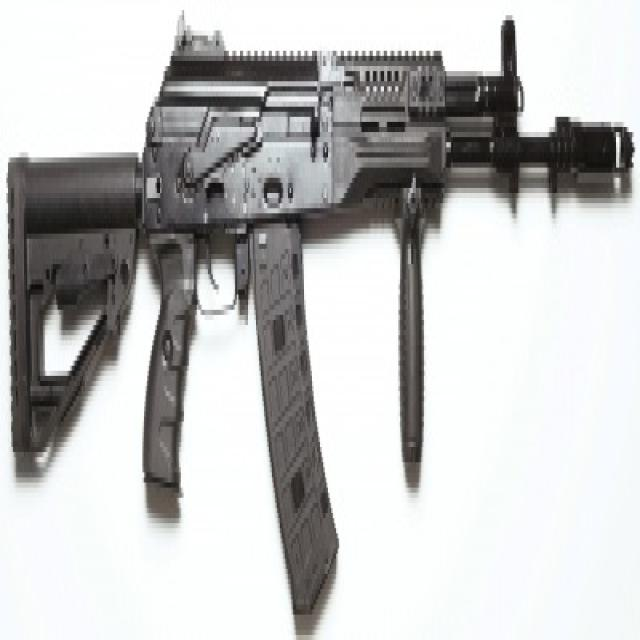rifle: (1, 1, 640, 621)
